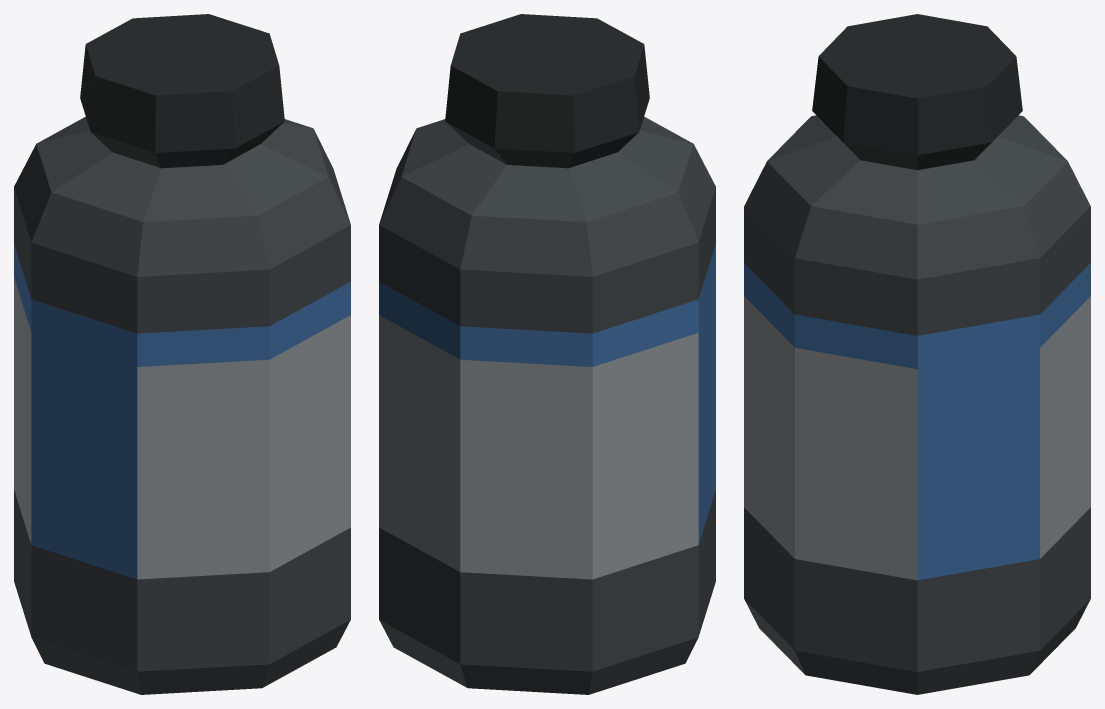
The model's file is SM_Prop_Bottle_Small_01.obj.
The picture shows the model from 3 angles, left to right: view 1: azimuth 30°, elevation 25°; view 2: azimuth 150°, elevation 25°; view 3: azimuth 270°, elevation 25°; orthographic projection.
Visible parts, largest first — view 1: SM_Prop_Bottle_Small_01_0; view 2: SM_Prop_Bottle_Small_01_0; view 3: SM_Prop_Bottle_Small_01_0.
Boxes of the visible parts, x1=… form: SM_Prop_Bottle_Small_01_0: x1=14, y1=14, x2=350, y2=694; SM_Prop_Bottle_Small_01_0: x1=379, y1=14, x2=715, y2=694; SM_Prop_Bottle_Small_01_0: x1=744, y1=14, x2=1090, y2=694.
Size of the model in its own units: 0.0721 by 0.1312 by 0.0721.
Materials: 1 (1 with a texture image).
